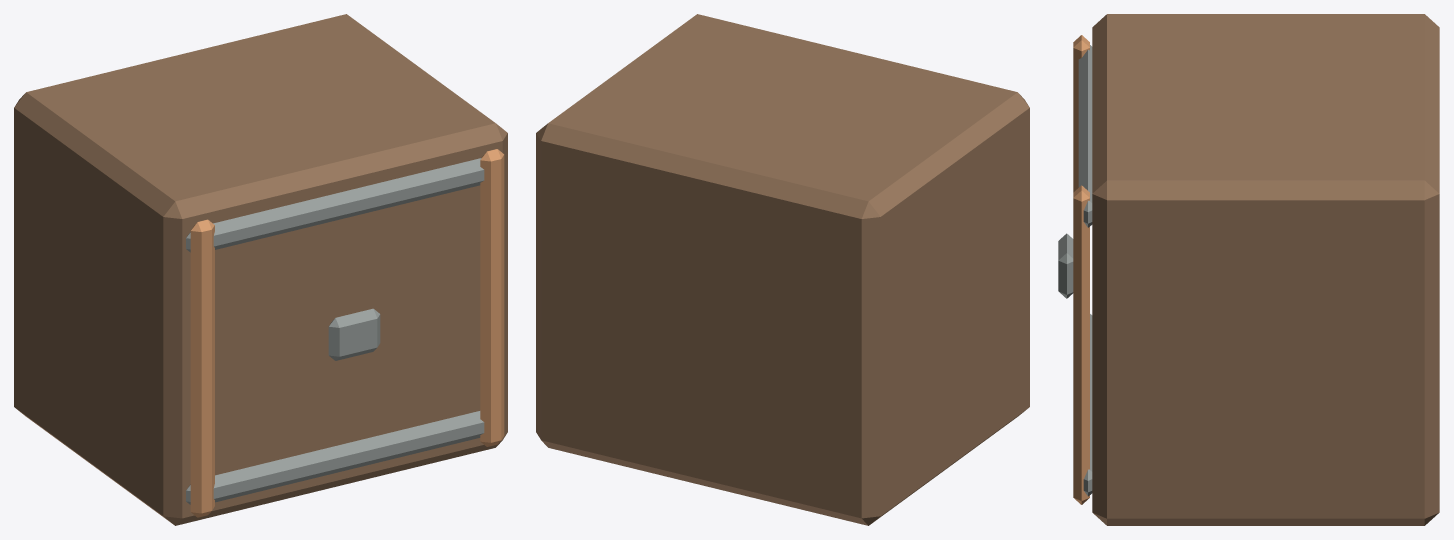
File: dj_supply_crate.glb
3 renders of one model, left to right at view 1: azimuth 30°, elevation 25°; view 2: azimuth 150°, elevation 25°; view 3: azimuth 270°, elevation 25°, orthographic. The views are drawn at different scales.
Parts seen in each view (by area): view 1: Crate_Core, Front_Strapping.001, Front_Strapping, Corner_Guard.001, Corner_Guard, Latch; view 2: Crate_Core; view 3: Crate_Core, Corner_Guard, Front_Strapping.001, Corner_Guard.001, Latch, Front_Strapping.
Boxes of the visible parts, box(x1,y1,x2,y2) form: Crate_Core: box(14, 14, 507, 525); Front_Strapping.001: box(186, 158, 484, 252); Front_Strapping: box(186, 411, 484, 504); Corner_Guard.001: box(190, 219, 214, 517); Corner_Guard: box(480, 149, 504, 446); Latch: box(328, 308, 380, 360); Crate_Core: box(536, 14, 1029, 525); Crate_Core: box(1092, 14, 1439, 525); Corner_Guard: box(1073, 185, 1089, 504); Front_Strapping.001: box(1078, 45, 1092, 227); Corner_Guard.001: box(1073, 35, 1089, 192); Latch: box(1058, 233, 1073, 298); Front_Strapping: box(1083, 314, 1092, 496).
Size of the model in its own units: 1 by 0.9 by 0.9.
